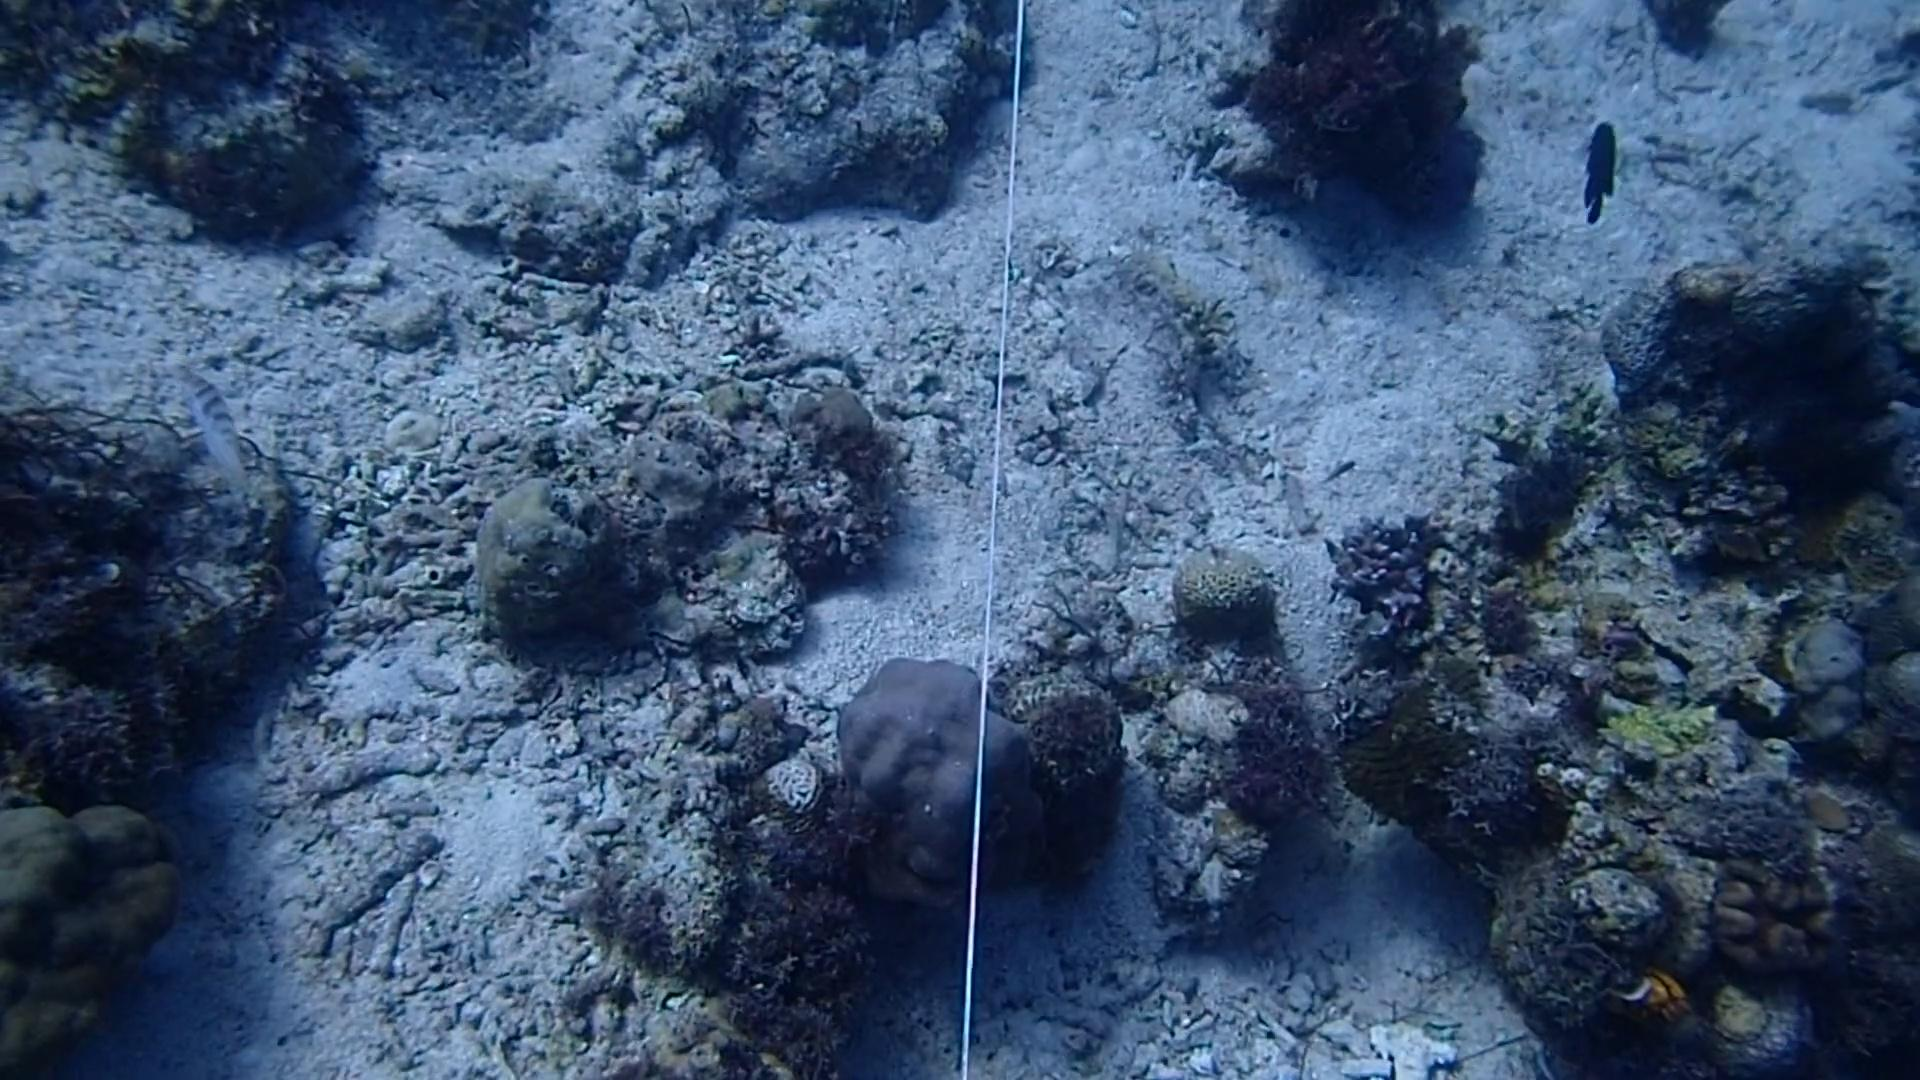Dark Fish: (1571, 109, 1627, 225)
Light Fish w Back Stripes: (156, 349, 269, 509)
